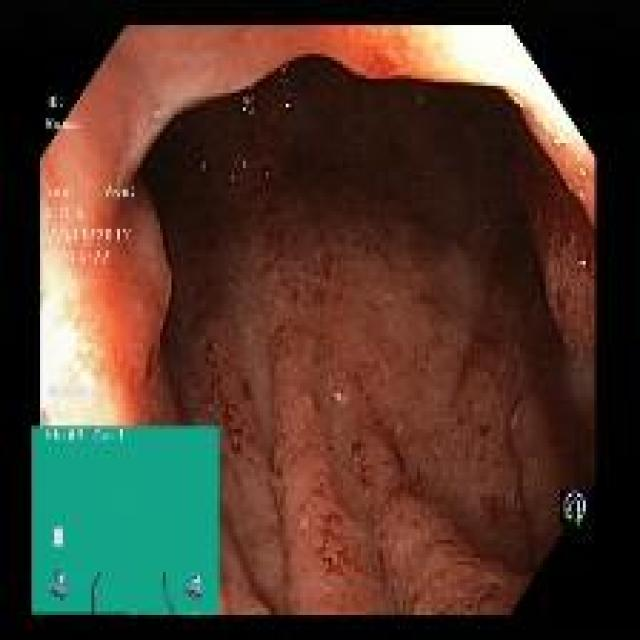ulcerative-colitis: (141, 56, 595, 614)
